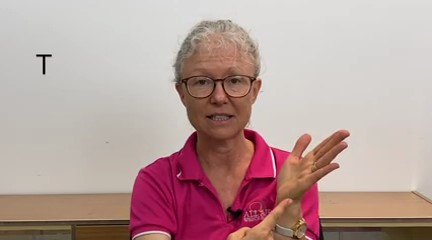T: (227, 123, 356, 240)
